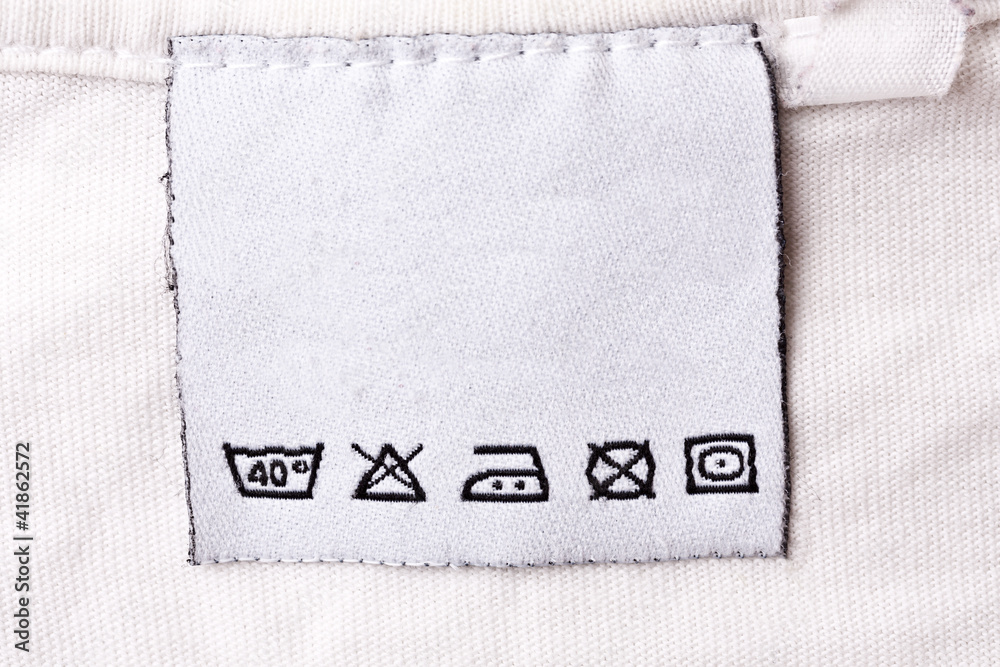ER_iron_medium_temp: (457, 434, 552, 520)
ER_no_bleach: (352, 432, 433, 515)
ER_no_dry_clean: (580, 436, 664, 512)
ER_tumble_dry_low_heat: (680, 425, 766, 508)
ER_wash_40: (210, 422, 332, 521)
